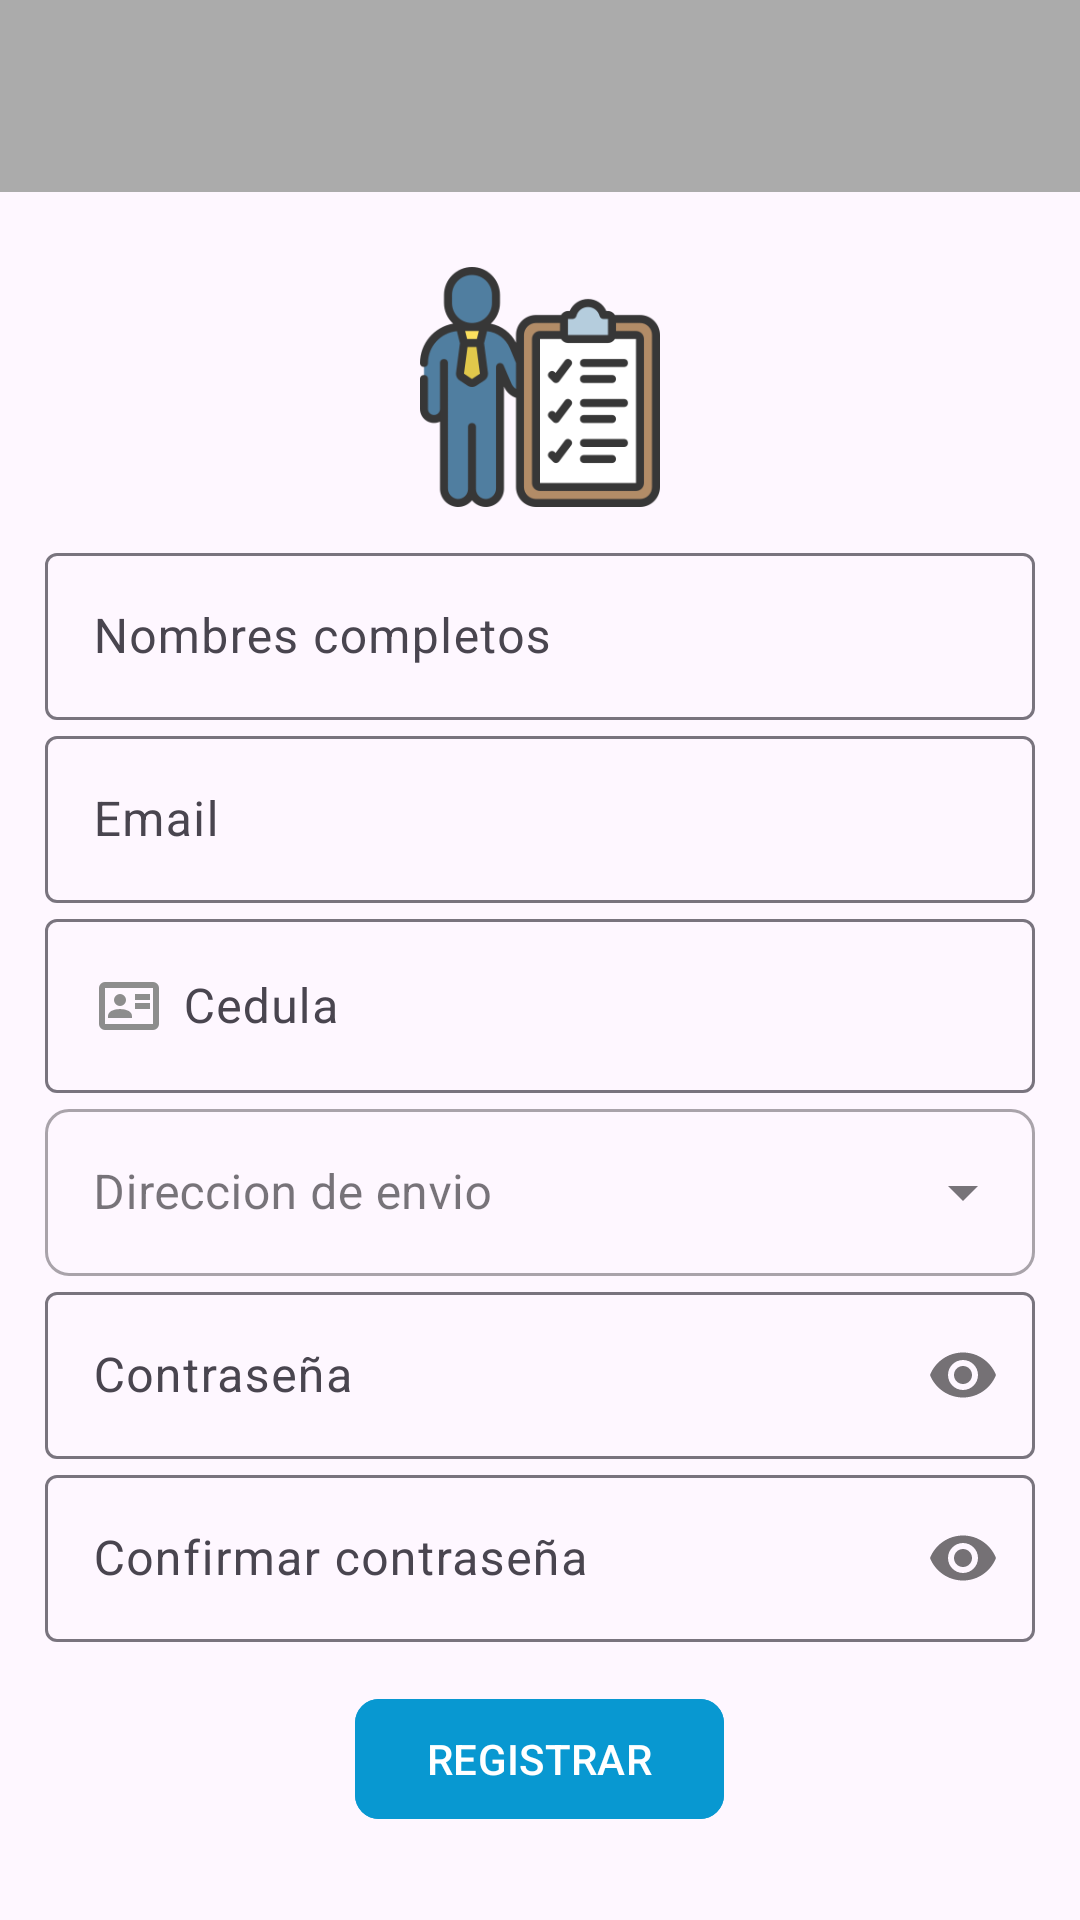

Icon click points for this 1080w x 1920h phone screenshot, format (x=x, y=y):
registroadmin: (x=540, y=387)
